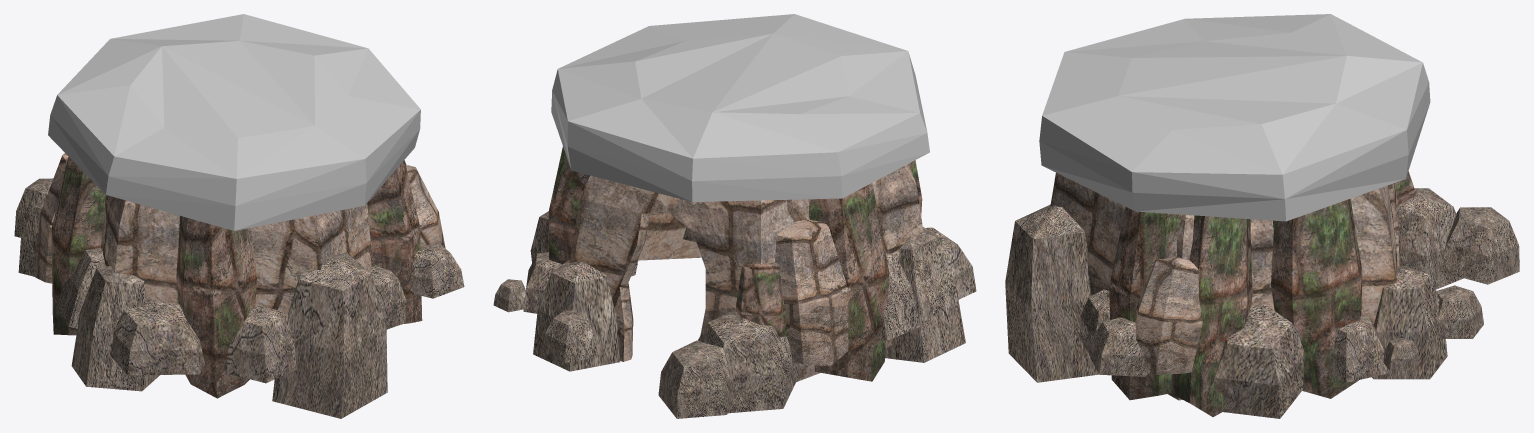
File: thm_dant_large_rock_hut_l0.fbx
3 views of the same model, side by side, from view 1: azimuth 30°, elevation 25°; view 2: azimuth 150°, elevation 25°; view 3: azimuth 270°, elevation 25° (orthographic). The views are drawn at different scales.
Visible parts, largest first — view 1: mesh_node; view 2: mesh_node; view 3: mesh_node.
Boxes of the visible parts, box(x1,y1,x2,y2) form: mesh_node: box(14, 14, 464, 418); mesh_node: box(493, 14, 976, 418); mesh_node: box(1005, 14, 1519, 418).
Size of the model in its own units: 11.43 by 7.94 by 12.97.
